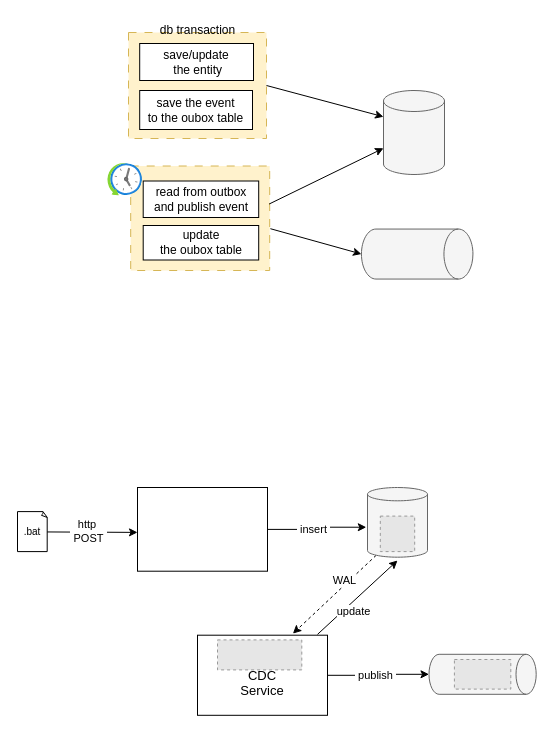
Image size: 554x733. Some labels were removed from this diagram. Grey dashed boxes stand in for pictures. The centre of each missing label's shape, as x and y in pixels:
"DB" goes at point 413,132.
"Message Broker" goes at point 416,253.
"Spring Boot + Eventuate Tram App" goes at point 202,528.
